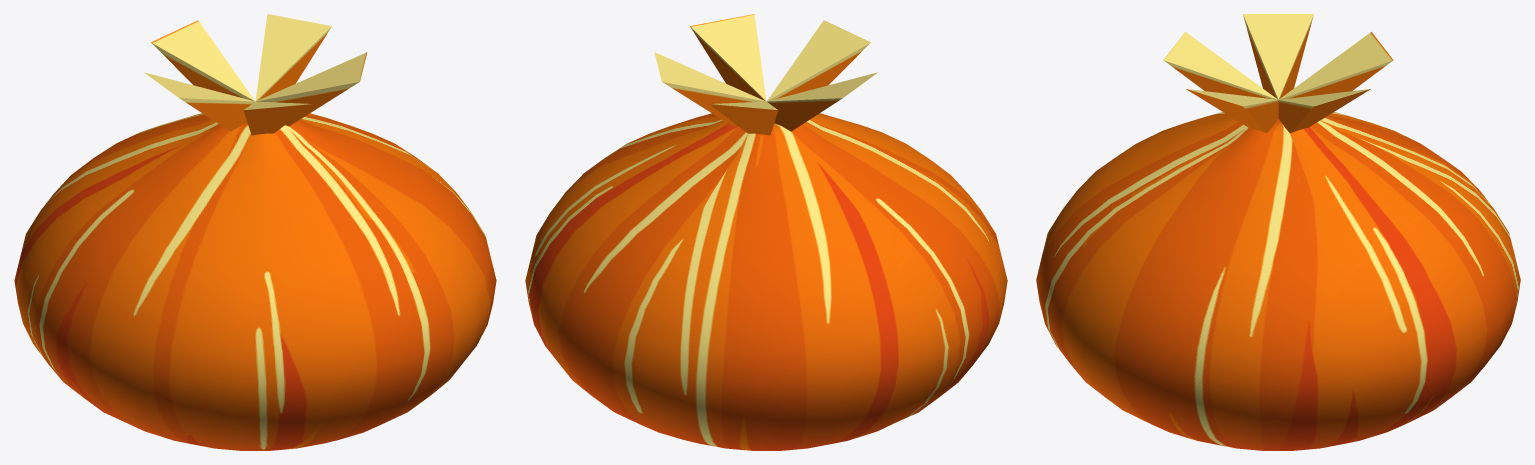
Rendered from onionWhole4_-_resized.fbx.
3 views of the same model, side by side, from view 1: azimuth 30°, elevation 25°; view 2: azimuth 150°, elevation 25°; view 3: azimuth 270°, elevation 25° (orthographic).
Visible parts, largest first — view 1: onionWhole; view 2: onionWhole; view 3: onionWhole.
Part boxes in pixels (x1=…): onionWhole: x1=14, y1=14, x2=496, y2=450; onionWhole: x1=525, y1=14, x2=1007, y2=450; onionWhole: x1=1036, y1=14, x2=1520, y2=450.
Bounding box in the file's own units: 139 × 112 × 140.
1 material, 1 textured.
